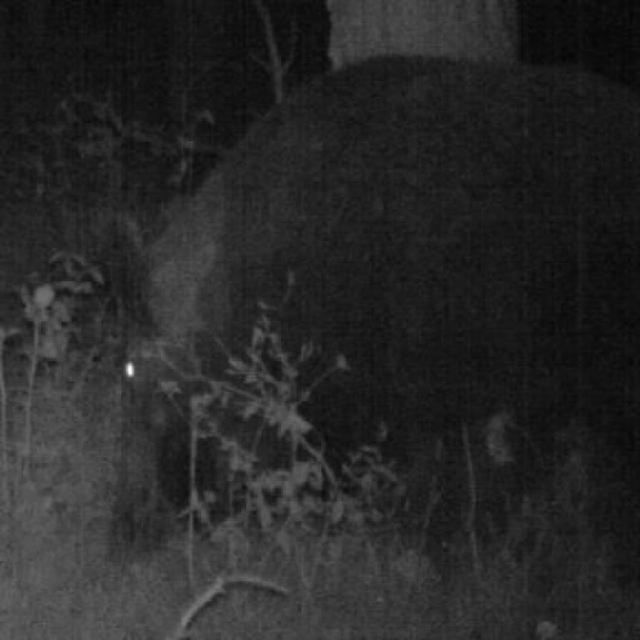Boar: (138, 32, 640, 560)
